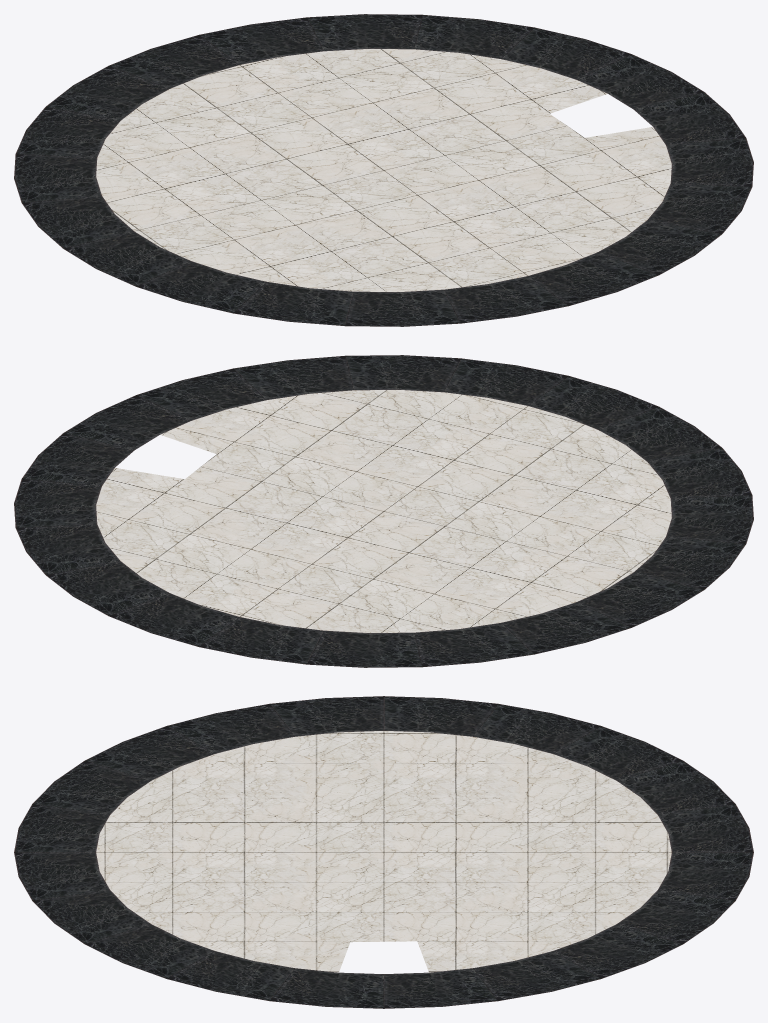
Rendered from KnightCastle_LibraryFloor.FBX.
3 renders of one model, top to bottom at view 1: azimuth 30°, elevation 25°; view 2: azimuth 150°, elevation 25°; view 3: azimuth 270°, elevation 25°, orthographic.
Visible parts, largest first — view 1: SM_KnightCastle_LibraryFloor; view 2: SM_KnightCastle_LibraryFloor; view 3: SM_KnightCastle_LibraryFloor.
Part boxes in pixels (x1,y1,x2,y2): SM_KnightCastle_LibraryFloor: (14, 14, 753, 326); SM_KnightCastle_LibraryFloor: (14, 355, 753, 667); SM_KnightCastle_LibraryFloor: (14, 696, 753, 1008).
Size of the model in its own units: 2214 by 2214 by 1.36e-13.
